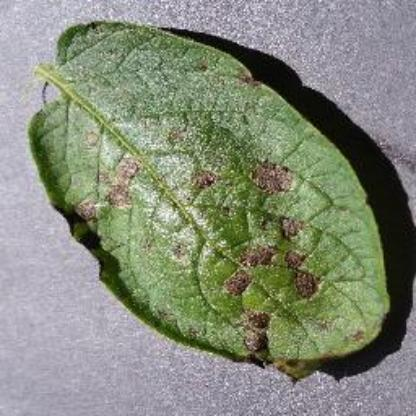Early-Blight: (21, 15, 410, 381)
